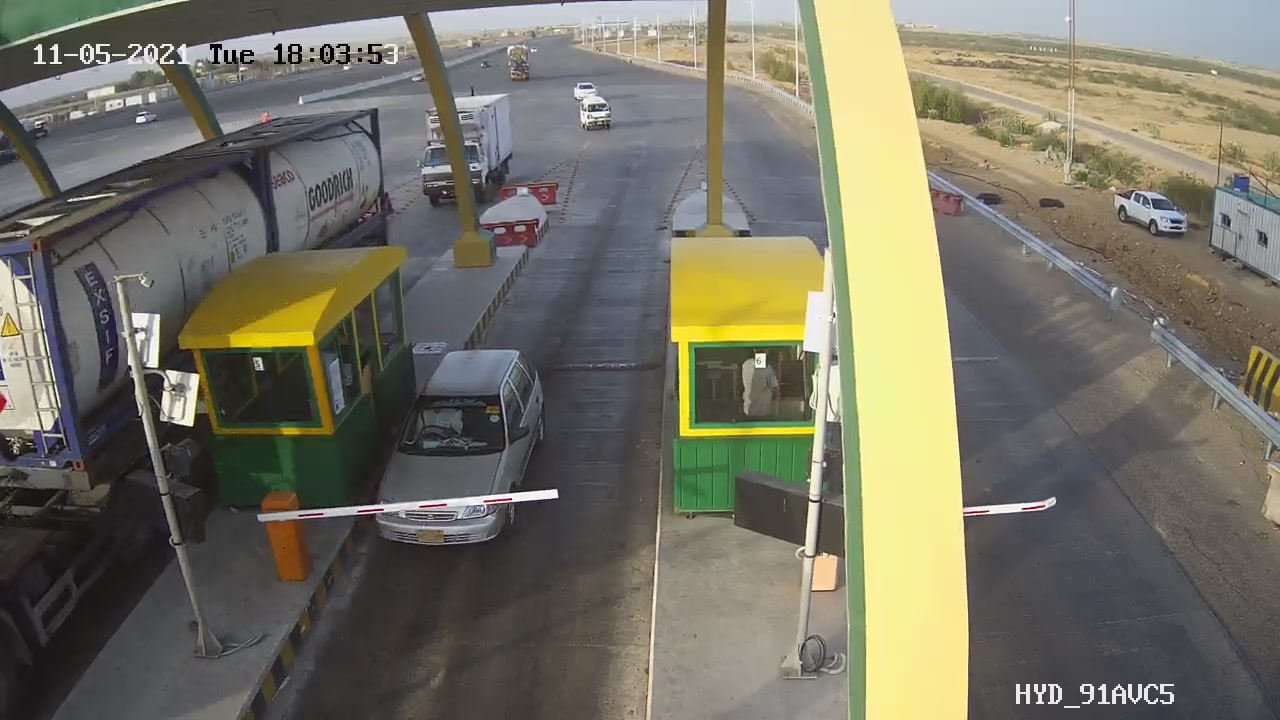F1: (351, 333, 568, 572)
